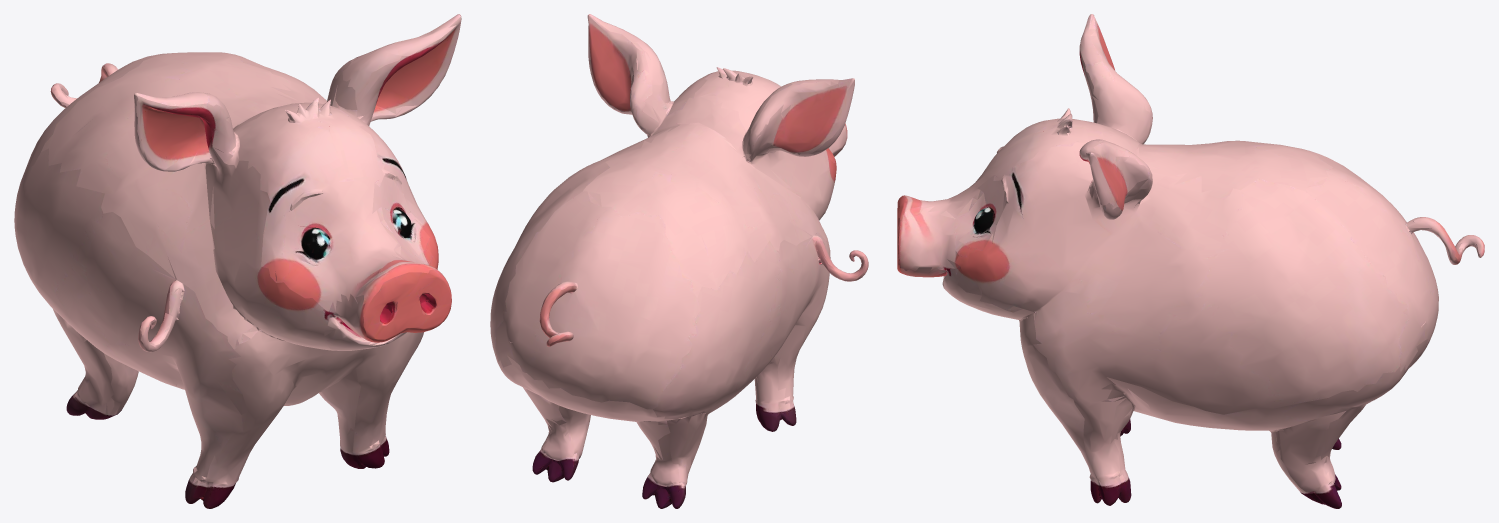
The model's file is char_pig.glb.
3 views of the same model, side by side, from view 1: azimuth 30°, elevation 25°; view 2: azimuth 150°, elevation 25°; view 3: azimuth 270°, elevation 25° (orthographic). The views are drawn at different scales.
Bounding box in the file's own units: 1.09 × 1.4 × 1.9.
Materials: 1 (1 with a texture image).
